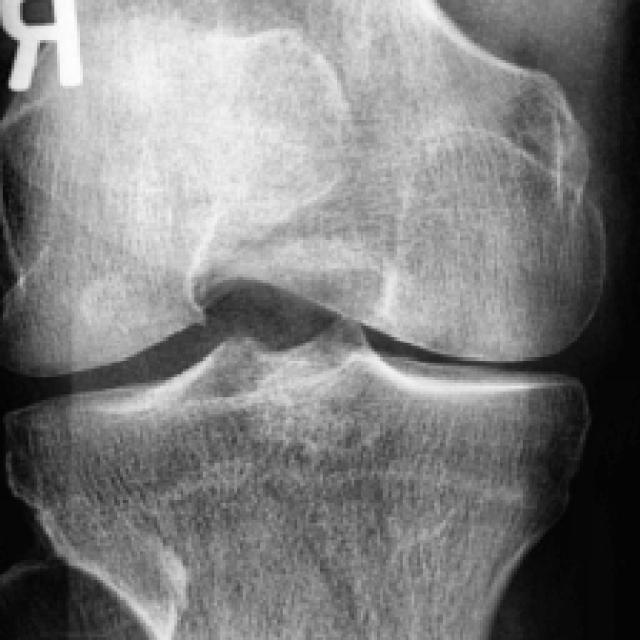femur: (0, 0, 606, 379)
tibia: (3, 319, 589, 640)
